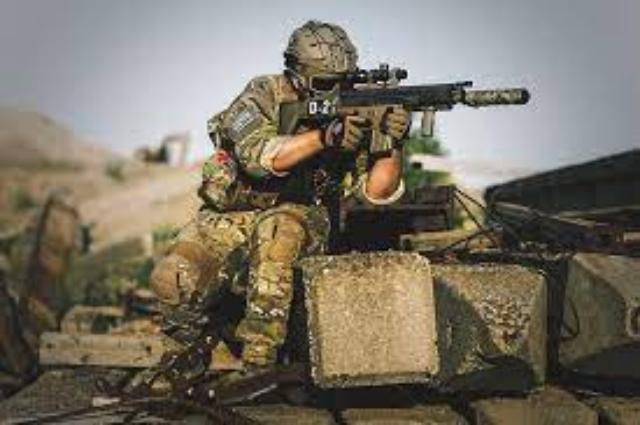other: (153, 15, 409, 374)
